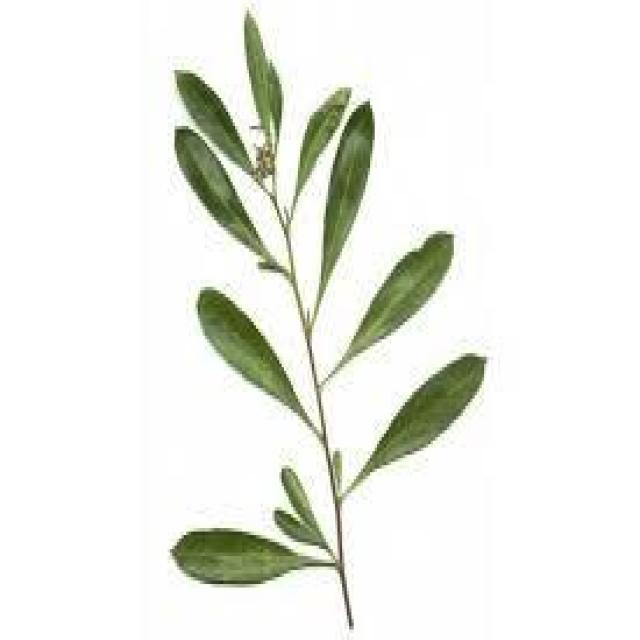Healthy: (340, 357, 484, 500), (321, 231, 451, 381), (198, 287, 323, 441), (175, 126, 286, 276), (312, 101, 375, 318), (173, 526, 337, 590)
